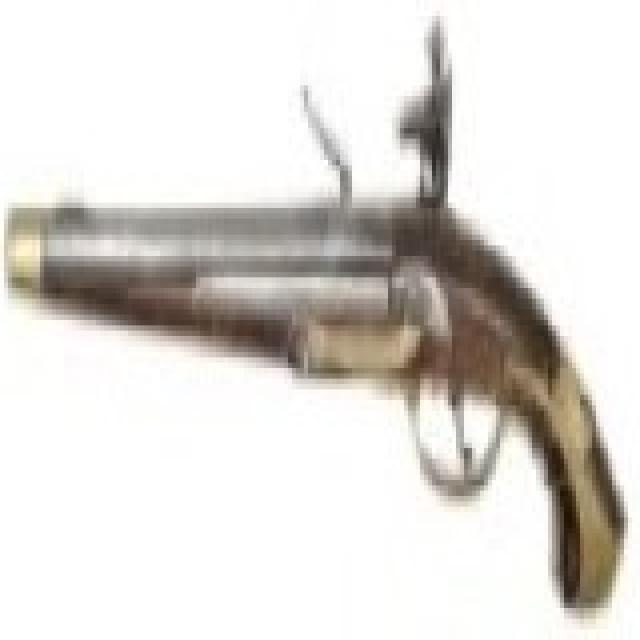Gun: (5, 68, 640, 614)
